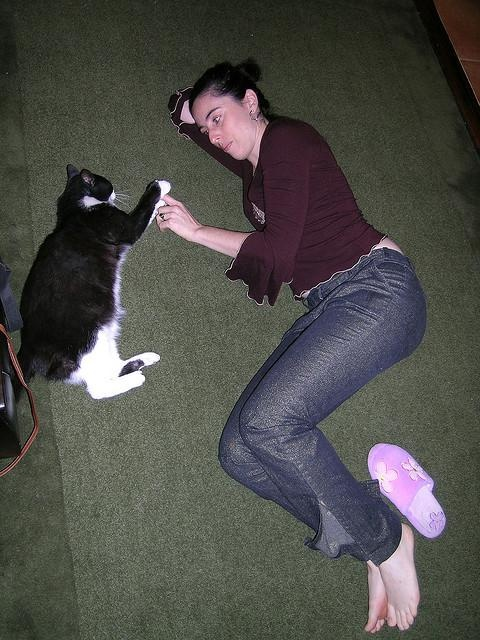person: (179, 54, 430, 633)
